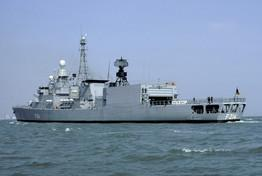warship: (12, 34, 246, 125)
